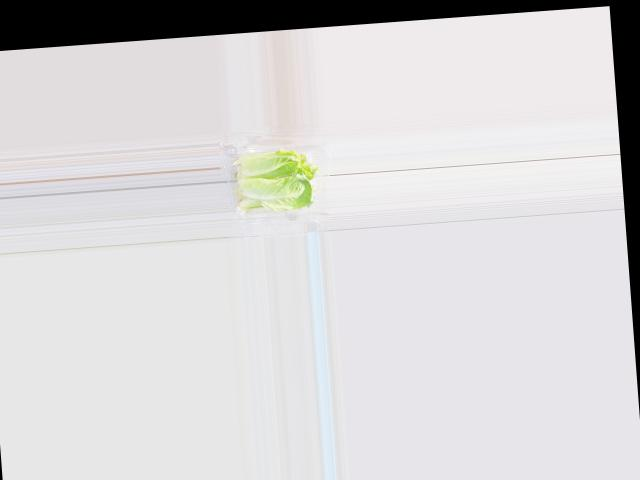lettuce: (236, 146, 321, 214)
